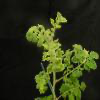Tomato leaf yellow virus: (85, 59, 97, 69), (54, 57, 64, 69), (89, 50, 99, 61), (46, 63, 53, 76), (36, 38, 44, 48), (32, 31, 38, 43), (51, 43, 59, 51), (41, 52, 48, 61), (56, 9, 61, 21), (39, 87, 44, 95), (40, 78, 46, 84), (61, 18, 68, 23), (32, 25, 37, 30), (39, 85, 45, 89)
